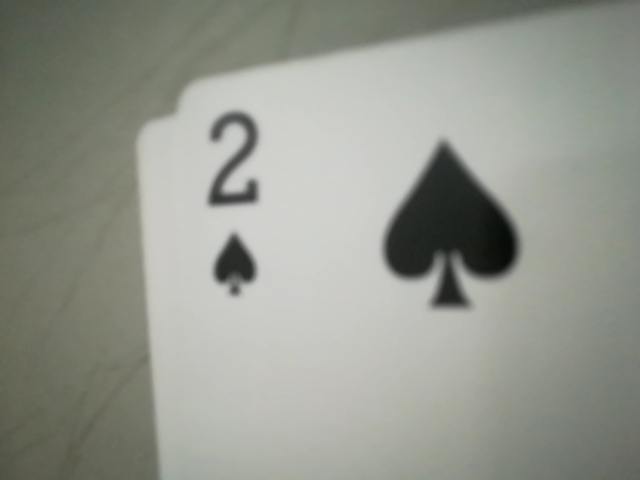ht 2: (174, 83, 289, 347)
